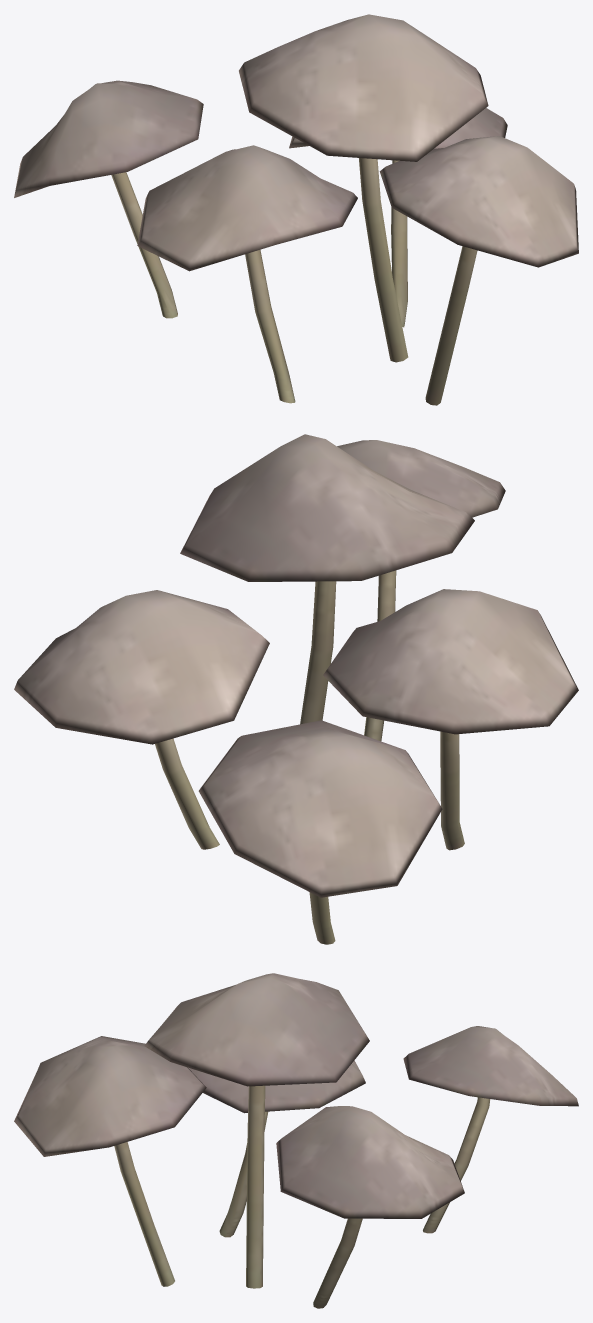
The model's file is mushroom1.glb.
3 renders of one model, top to bottom at view 1: azimuth 30°, elevation 25°; view 2: azimuth 150°, elevation 25°; view 3: azimuth 270°, elevation 25°, orthographic. The views are drawn at different scales.
Parts seen in each view (by area): view 1: Mushroom_Common; view 2: Mushroom_Common; view 3: Mushroom_Common.
Part boxes in pixels (bbox=[...]): Mushroom_Common: bbox=[14, 14, 578, 405]; Mushroom_Common: bbox=[14, 434, 578, 944]; Mushroom_Common: bbox=[14, 973, 578, 1308].
Bounding box in the file's own units: 0.5637 × 0.4635 × 0.7791.
1 material, 1 textured.
